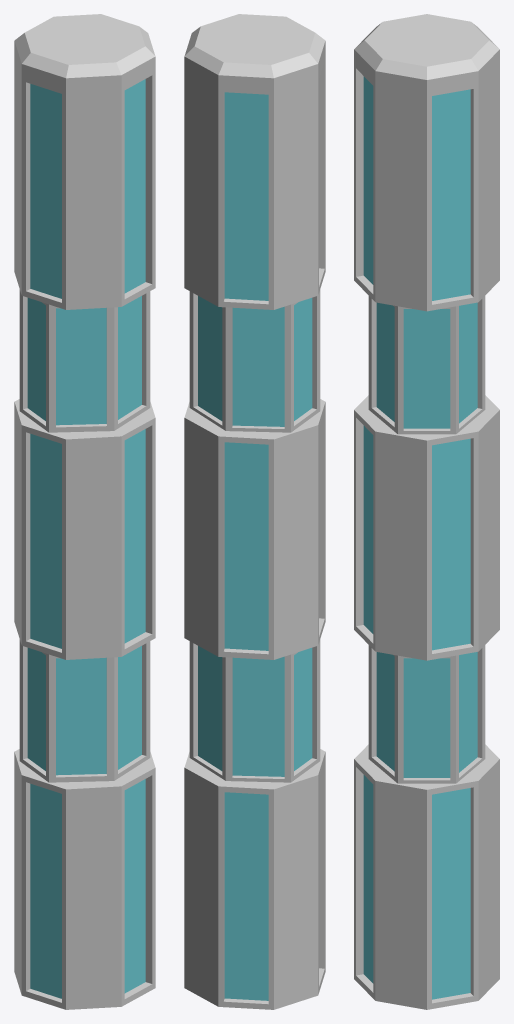
Rendered from Buillding6.fbx.
3 views of the same model, side by side, from view 1: azimuth 30°, elevation 25°; view 2: azimuth 150°, elevation 25°; view 3: azimuth 270°, elevation 25° (orthographic).
Visible parts, largest first — view 1: Cylinder.001; view 2: Cylinder.001; view 3: Cylinder.001.
Boxes of the visible parts, left/top/right/bottom form: Cylinder.001: left=14, top=14, right=155, bottom=1009; Cylinder.001: left=184, top=14, right=325, bottom=1009; Cylinder.001: left=354, top=14, right=499, bottom=1009.
Size of the model in its own units: 2082 by 14798 by 2082.
